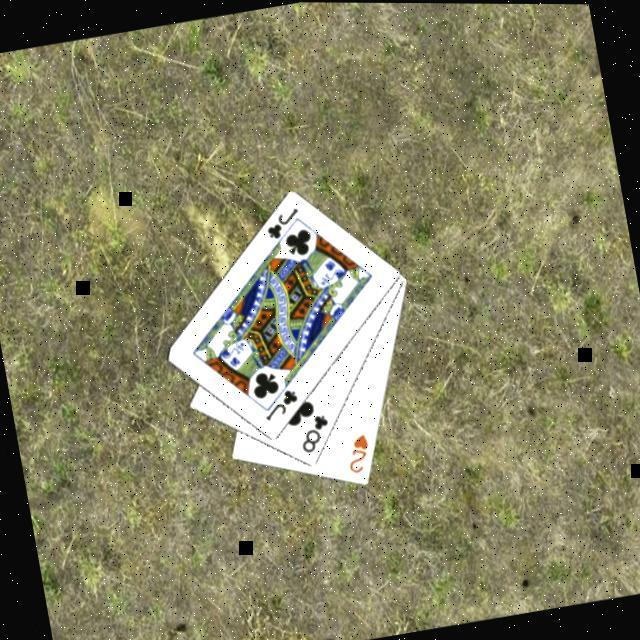2H: (338, 428, 374, 475)
8C: (291, 407, 334, 455)
JC: (255, 382, 302, 423), (257, 201, 304, 241)
